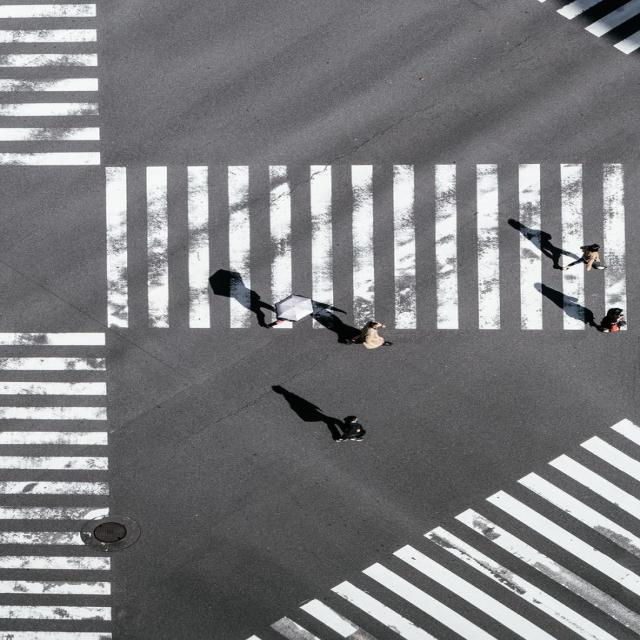Pedestrians: (343, 321, 398, 350), (558, 244, 610, 273), (333, 415, 370, 443), (598, 307, 629, 333)
